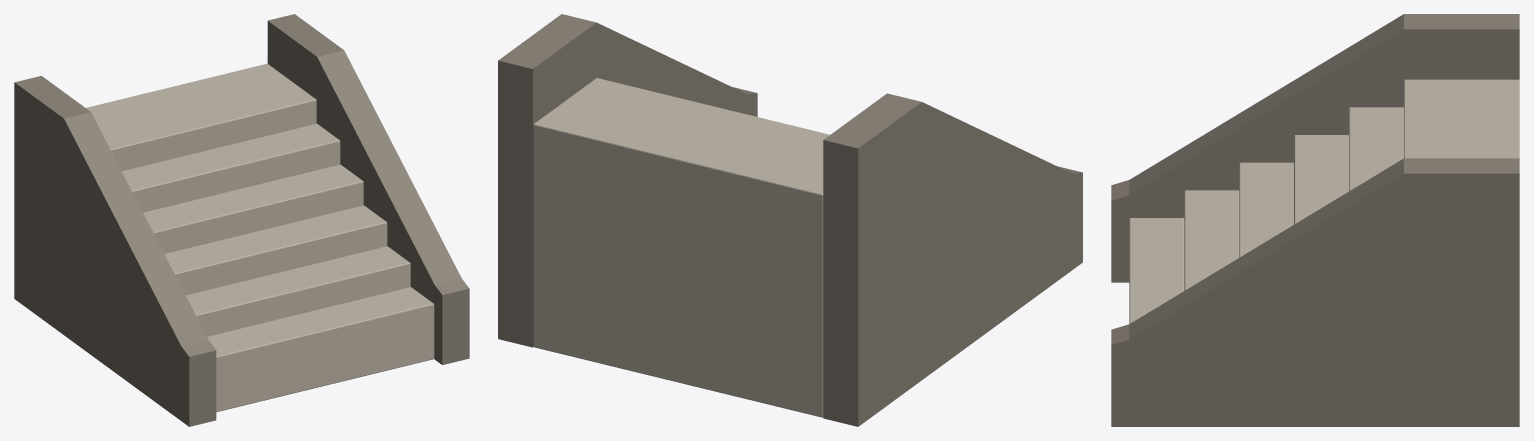
Rendered from street_stairs_narrow.fbx.
3 renders of one model, left to right at view 1: azimuth 30°, elevation 25°; view 2: azimuth 150°, elevation 25°; view 3: azimuth 270°, elevation 25°, orthographic. The views are drawn at different scales.
Visible parts, largest first — view 1: Street_Stairs_Narrow; view 2: Street_Stairs_Narrow; view 3: Street_Stairs_Narrow.
Boxes of the visible parts, left/top/right/bottom form: Street_Stairs_Narrow: left=14, top=14, right=469, bottom=426; Street_Stairs_Narrow: left=498, top=14, right=1082, bottom=426; Street_Stairs_Narrow: left=1111, top=14, right=1519, bottom=426.
Bounding box in the file's own units: 310 × 229 × 335.
